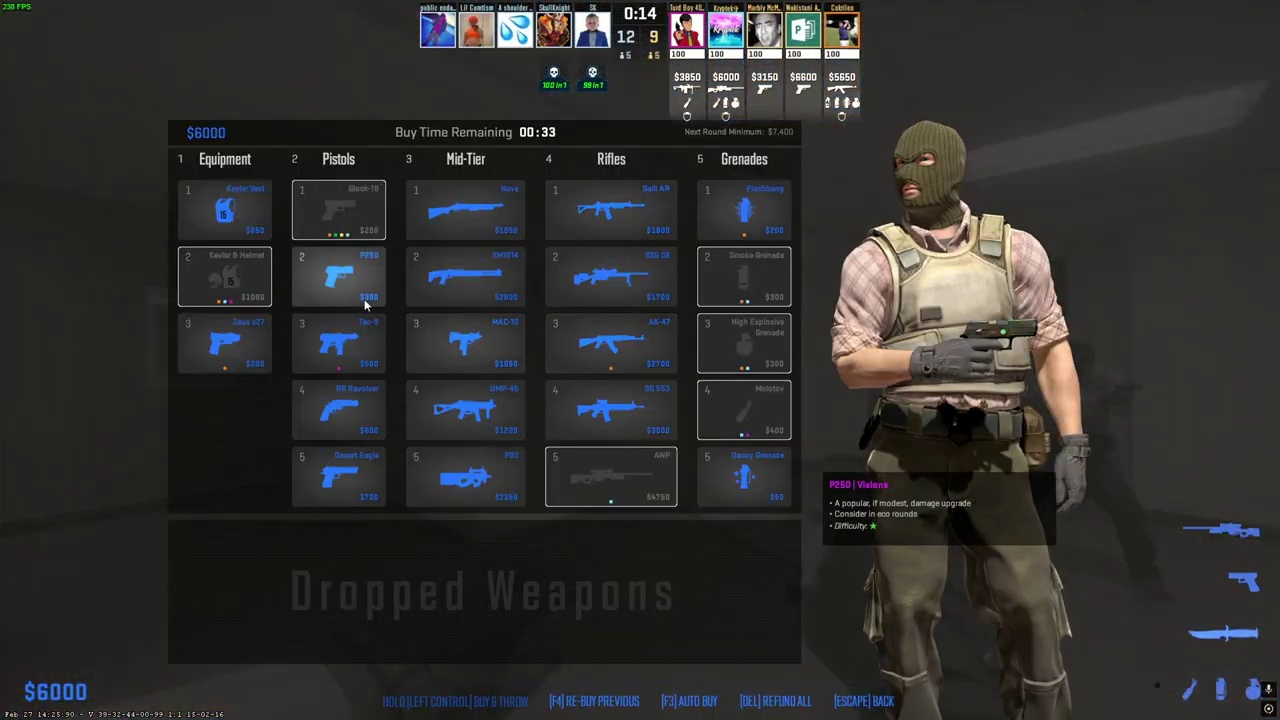Terrorist: (846, 120, 1074, 720)
